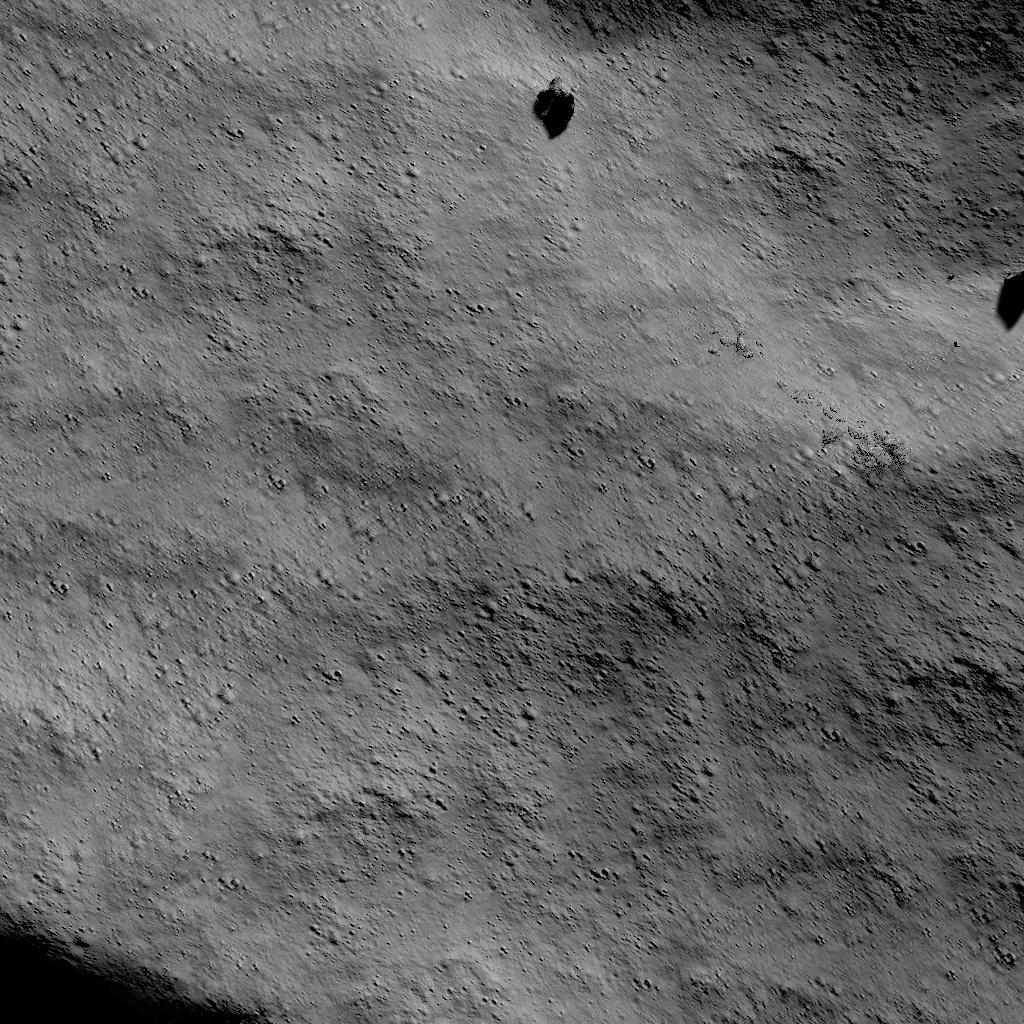Plan surface: (1, 0, 505, 897), (536, 363, 1024, 1019), (613, 0, 966, 352)
